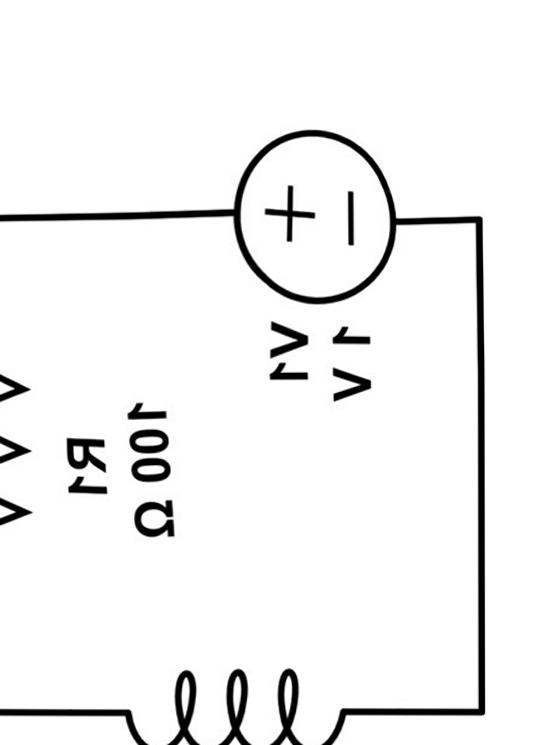Battery: (195, 101, 419, 316)
